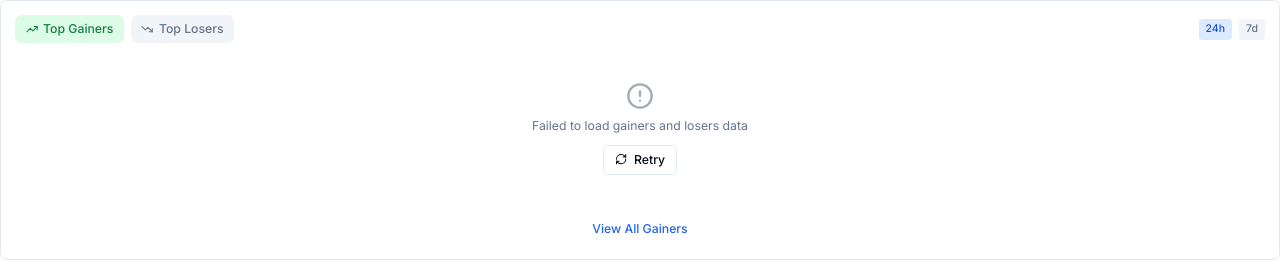
Test: GainersLosers › should recover from an initial provider failure without losing its controls
The image size is (1280, 277).
Expected: the text "Failed to load gainers and losers data" is shown, [532,116,748,134]
Click the button "Retry".
click(640, 160)  # box [603,144,677,174]
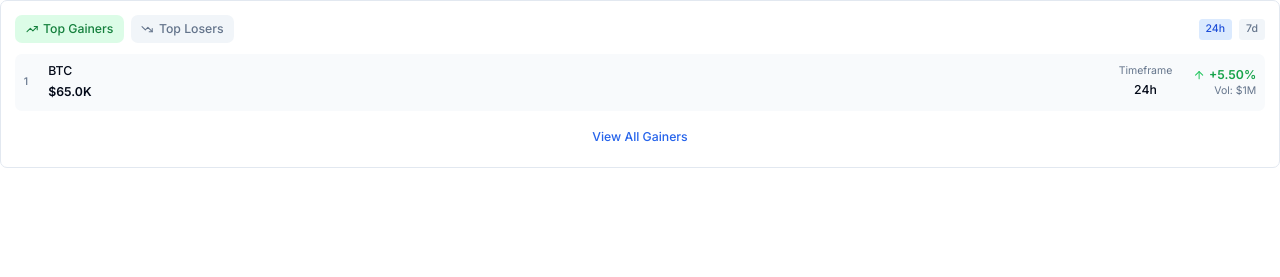
Expected: the button "7d" is shown, [1239,18,1265,40]
Now the text "BTC" is shown, box [48,62,72,80]
